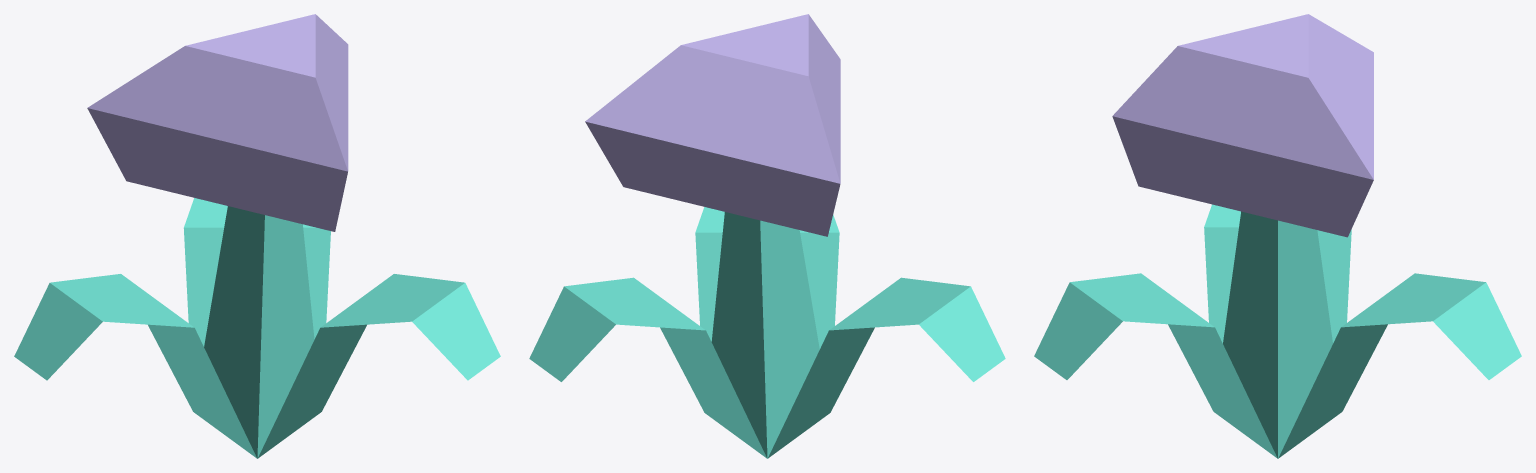
Rendered from flower_purpleB.glb.
3 renders of one model, left to right at view 1: azimuth 30°, elevation 25°; view 2: azimuth 150°, elevation 25°; view 3: azimuth 270°, elevation 25°, orthographic. The views are drawn at different scales.
Visible parts, largest first — view 1: flower_purpleB; view 2: flower_purpleB; view 3: flower_purpleB.
Boxes of the visible parts, x1,y1,x2,y2 form: flower_purpleB: (14,14,500,458); flower_purpleB: (529,14,1005,458); flower_purpleB: (1034,14,1521,458).
Bounding box in the file's own units: 0.2073 × 0.2085 × 0.2392.
